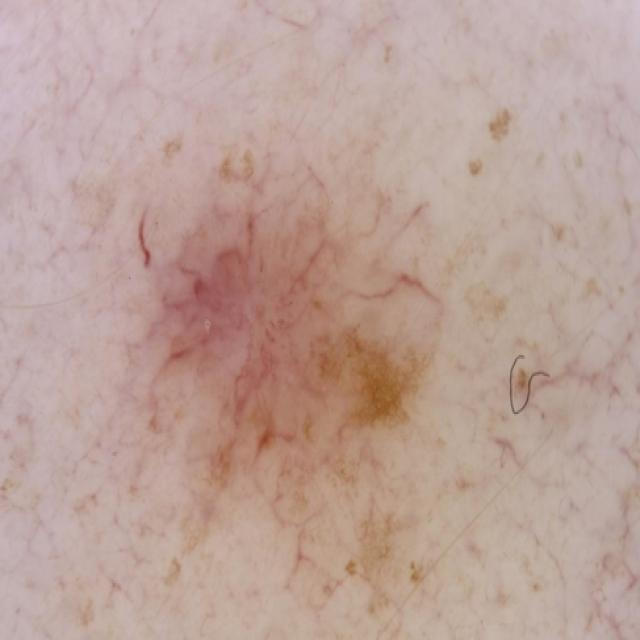Dermatofibroma: (109, 133, 504, 616)
